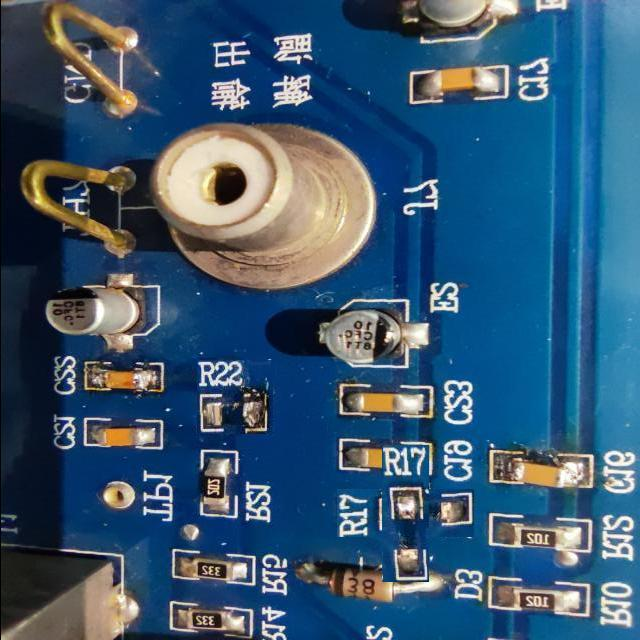miss_welding: (359, 467, 452, 560), (198, 359, 273, 434)
